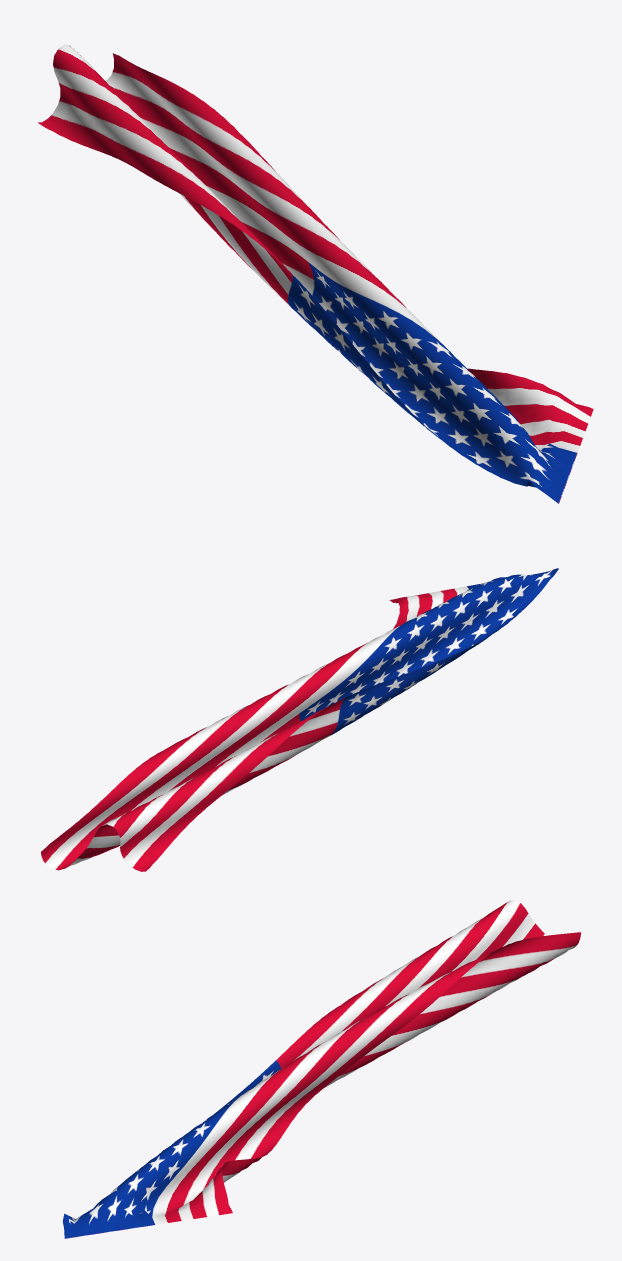
File: flag.obj
3 renders of one model, top to bottom at view 1: azimuth 30°, elevation 25°; view 2: azimuth 150°, elevation 25°; view 3: azimuth 330°, elevation 25°, orthographic. The views are drawn at different scales.
Visible parts, largest first — view 1: Flag; view 2: Flag; view 3: Flag.
Boxes of the visible parts, x1=… form: Flag: x1=38, y1=44, x2=593, y2=503; Flag: x1=41, y1=568, x2=558, y2=871; Flag: x1=62, y1=900, x2=580, y2=1238.
Bounding box in the file's own units: 15.96 × 5.27 × 72.34.
Materials: 1 (1 with a texture image).
